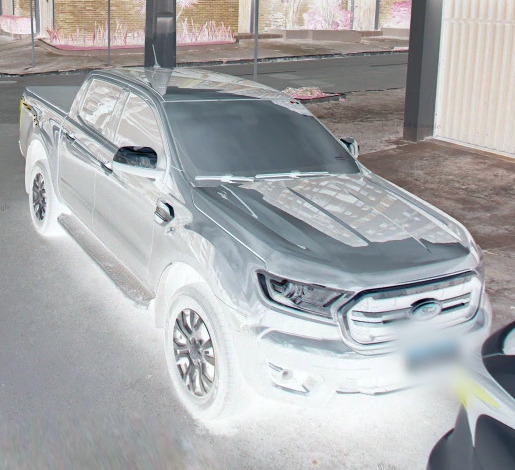car: (15, 59, 499, 431)
